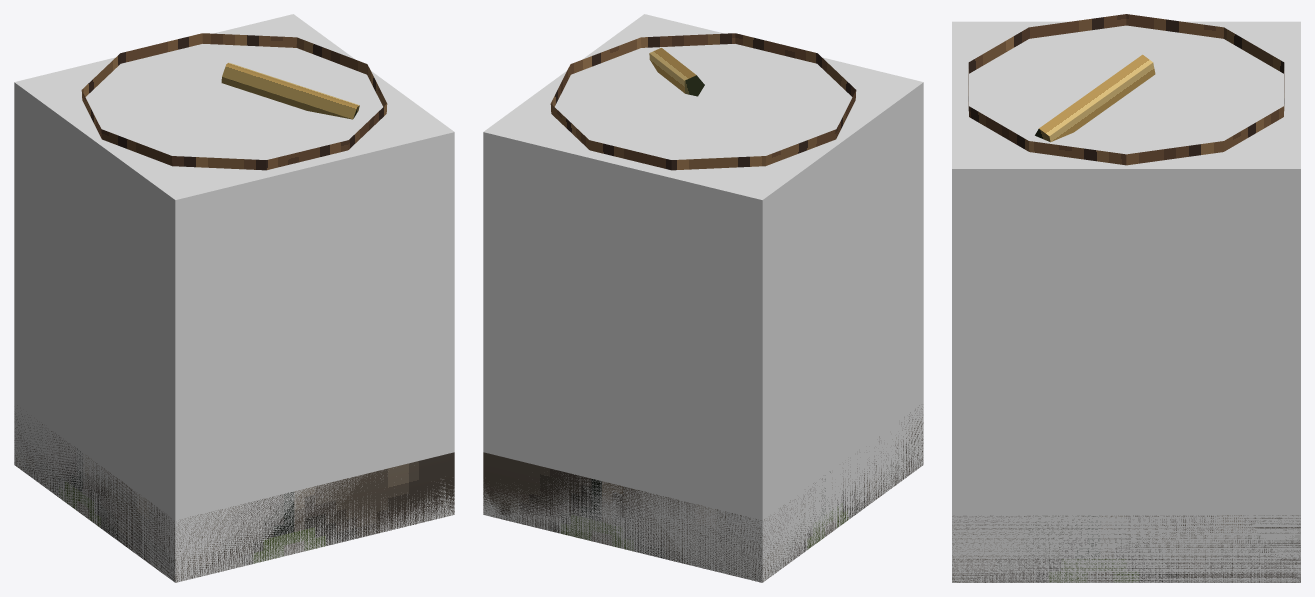
File: JP_Prop_RainBarrel_A.glb
3 views of the same model, side by side, from view 1: azimuth 30°, elevation 25°; view 2: azimuth 150°, elevation 25°; view 3: azimuth 270°, elevation 25° (orthographic). The views are drawn at different scales.
Parts seen in each view (by area): view 1: COL_JP_Prop_RainBarrel_A, JP_Prop_RainBarrel_A; view 2: COL_JP_Prop_RainBarrel_A, JP_Prop_RainBarrel_A; view 3: COL_JP_Prop_RainBarrel_A, JP_Prop_RainBarrel_A.
Part boxes in pixels (x1,y1,x2,y2): COL_JP_Prop_RainBarrel_A: (14,14,454,582); JP_Prop_RainBarrel_A: (14,33,454,582); COL_JP_Prop_RainBarrel_A: (483,14,923,582); JP_Prop_RainBarrel_A: (483,33,923,582); COL_JP_Prop_RainBarrel_A: (952,21,1300,582); JP_Prop_RainBarrel_A: (952,14,1300,582).
Bounding box in the file's own units: 0.84 × 1.21 × 0.84.
4 materials, 4 textured.
